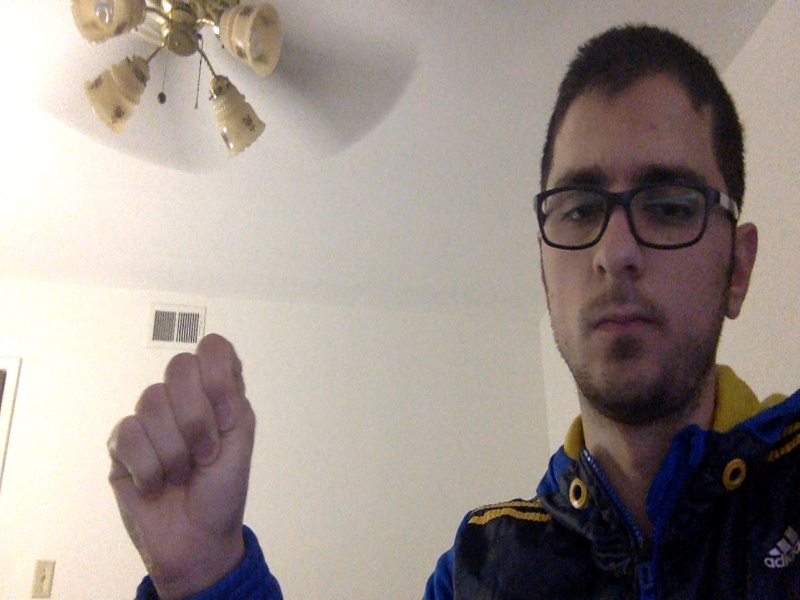0-hand: (106, 333, 256, 584)
